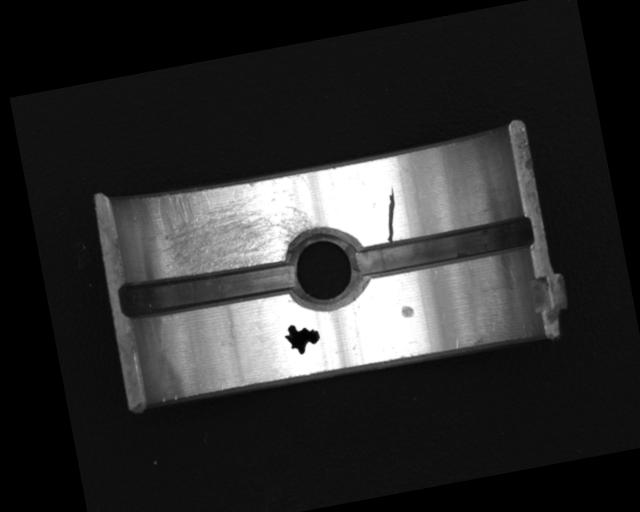blot: (282, 320, 323, 357)
bruise: (399, 303, 415, 319)
gap: (350, 211, 537, 283), (117, 253, 299, 324)
hole: (279, 221, 369, 316)
nick: (378, 185, 405, 243)
scratch: (141, 167, 320, 285)
